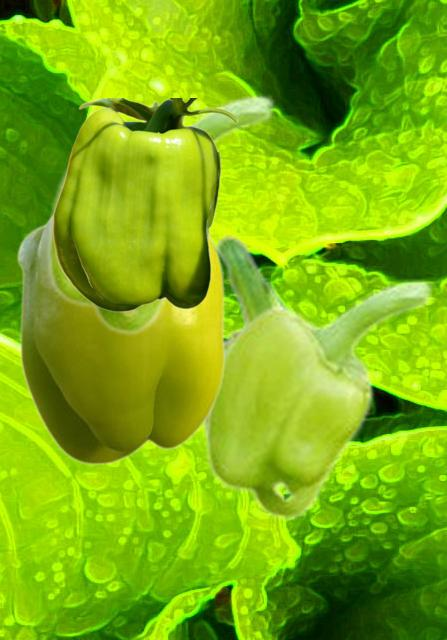bell_pepper: (203, 278, 433, 520), (45, 93, 275, 335), (16, 218, 224, 464), (52, 98, 237, 311), (198, 235, 290, 447)
